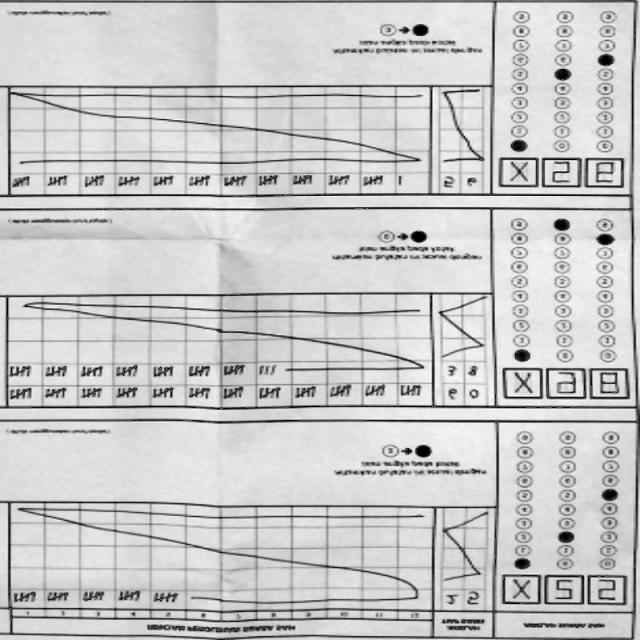Suara: (498, 369, 630, 405), (494, 158, 628, 192), (498, 575, 630, 609)
